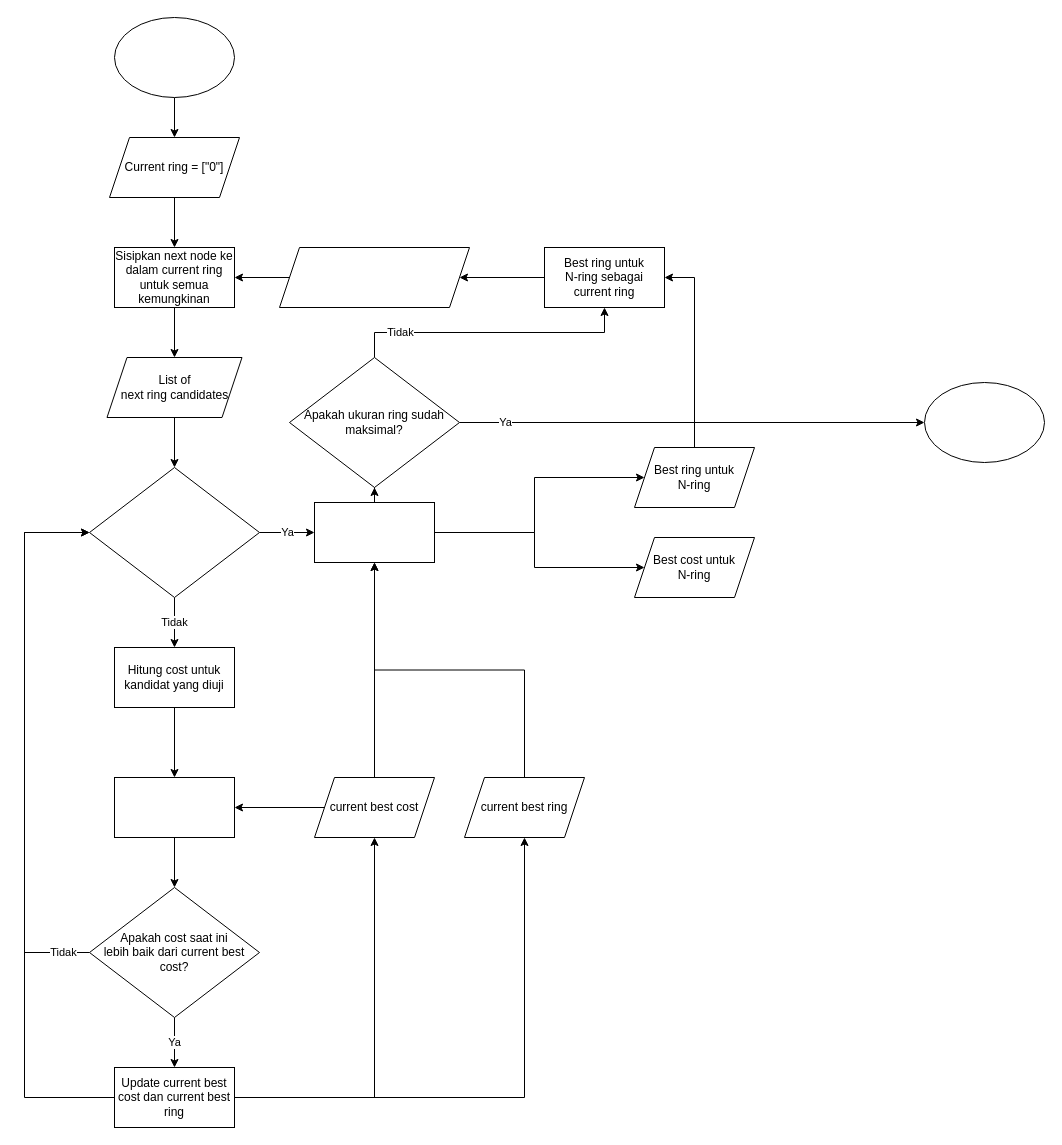
Image size: 1062x1145. Some labels were removed from this diagram. The shapes that lost their labels are listed below. From the top down, each one's box as (x1, y1, x2, y2) in pixels, then its label:
(114, 16, 234, 98): Start
(278, 246, 470, 308): Current ring = best ring untuk N-ring
(924, 382, 1044, 462): Stop
(88, 466, 260, 598): Apakah setiap kandidat sudah diuji?
(314, 502, 434, 562): Laporkan best ring dan best cost
(114, 776, 234, 838): Komparasi current best cost dengan cost
